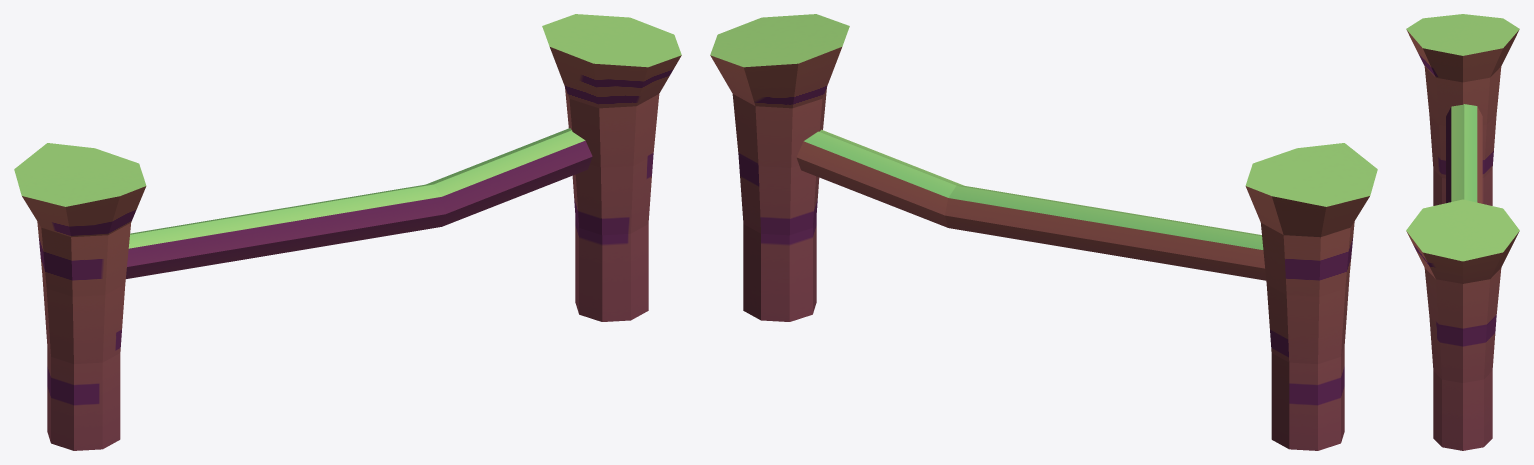
Rendered from SM_Props_Fence.fbx.
The picture shows the model from 3 angles, left to right: view 1: azimuth 30°, elevation 25°; view 2: azimuth 150°, elevation 25°; view 3: azimuth 270°, elevation 25°; orthographic projection. The views are drawn at different scales.
Visible parts, largest first — view 1: Pagar 1; view 2: Pagar 1; view 3: Pagar 1.
Boxes of the visible parts, left/top/right/bottom form: Pagar 1: left=14, top=14, right=681, bottom=450; Pagar 1: left=710, top=14, right=1377, bottom=450; Pagar 1: left=1406, top=14, right=1519, bottom=450.
Size of the model in its own units: 215 by 86.67 by 41.56.
Materials: 1 (1 with a texture image).
